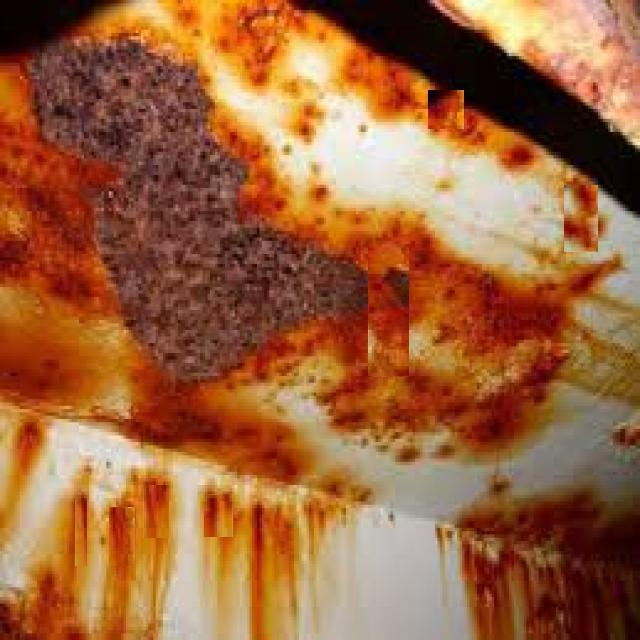Corrosion: (226, 168, 621, 504), (0, 62, 313, 482), (31, 37, 360, 378), (0, 62, 126, 406), (433, 0, 640, 146), (290, 24, 434, 122), (439, 91, 465, 128)
